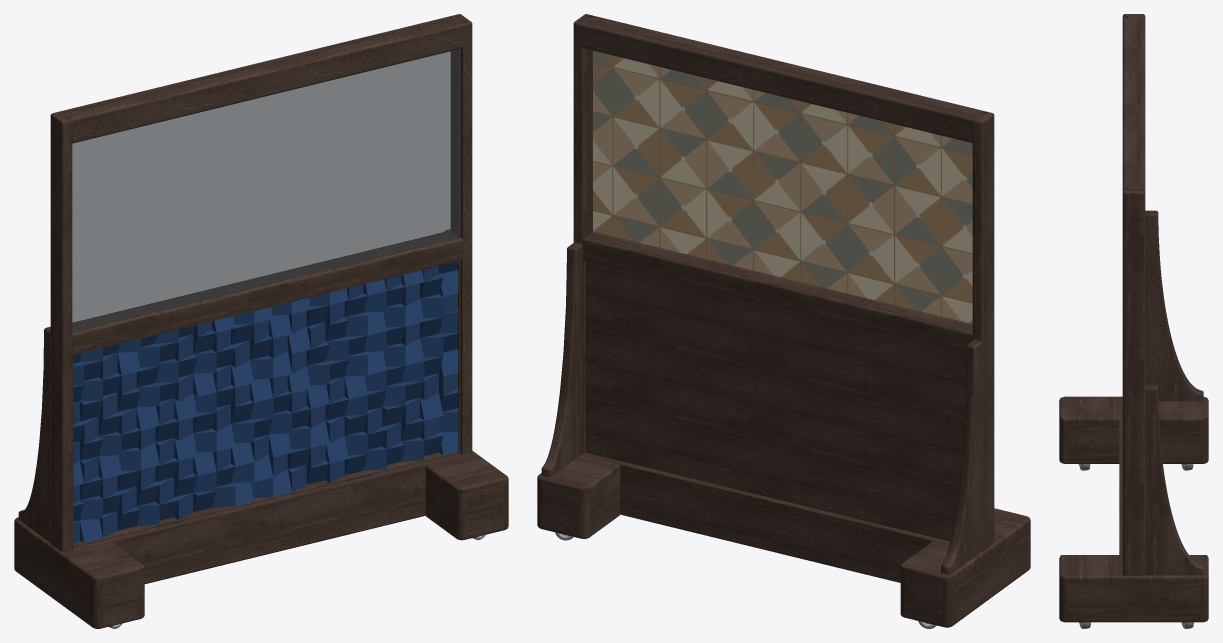
Rendered from v10-linen-marquetry-espresso-one.glb.
3 views of the same model, side by side, from view 1: azimuth 30°, elevation 25°; view 2: azimuth 150°, elevation 25°; view 3: azimuth 270°, elevation 25° (orthographic). The views are drawn at different scales.
Visible parts, largest first — view 1: Wood, Linen Marquetry reverse, Navy Everwood relief; view 2: Wood, Linen Marquetry print; view 3: Wood, Nonmarking rubber.
Boxes of the visible parts, x1=… form: Wood: x1=14, y1=14, x2=508, y2=628; Linen Marquetry reverse: x1=72, y1=49, x2=460, y2=331; Navy Everwood relief: x1=73, y1=261, x2=458, y2=543; Wood: x1=537, y1=14, x2=1030, y2=627; Linen Marquetry print: x1=593, y1=50, x2=972, y2=323; Wood: x1=1059, y1=14, x2=1208, y2=622; Nonmarking rubber: x1=1079, y1=464, x2=1193, y2=628.
Size of the model in its own units: 1.68 by 1.91 by 0.5842.
Materials: 10 (2 with a texture image).
